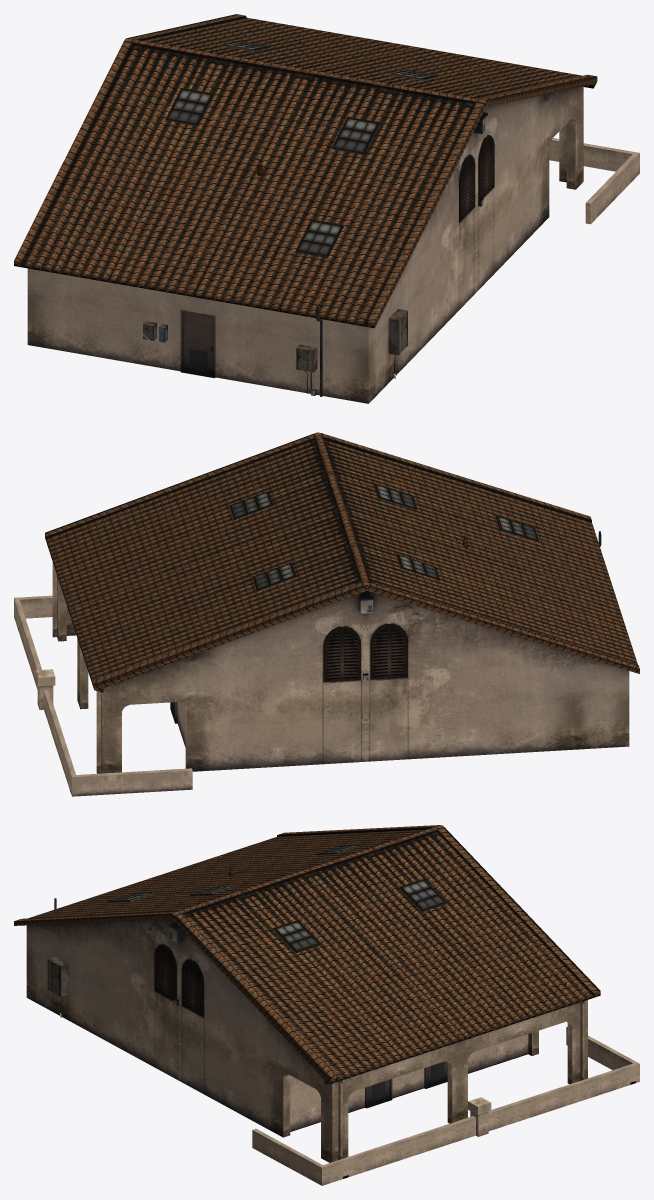
3 views of the same model, one above another, from view 1: azimuth 30°, elevation 25°; view 2: azimuth 150°, elevation 25°; view 3: azimuth 270°, elevation 25° (orthographic). The views are drawn at different scales.
Visible parts, largest first — view 1: City_building_001; view 2: City_building_001; view 3: City_building_001.
Part boxes in pixels (x1,y1,x2,y2): City_building_001: [14, 14, 639, 403]; City_building_001: [14, 432, 639, 796]; City_building_001: [14, 825, 639, 1185].
Bounding box in the file's own units: 2256 × 2152 × 644.
1 material, 1 textured.
